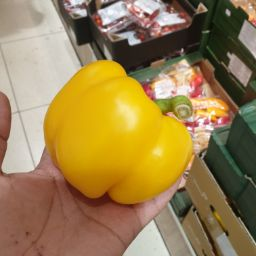Bell pepper: (39, 55, 202, 218)
